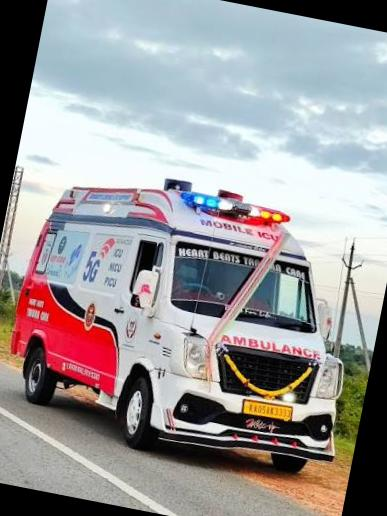ambulance: (0, 153, 380, 484)
